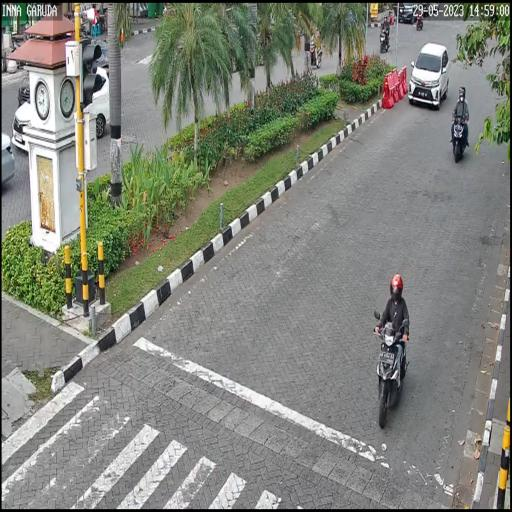mobil: (409, 42, 450, 111)
motor: (373, 305, 410, 429), (451, 109, 469, 165)
